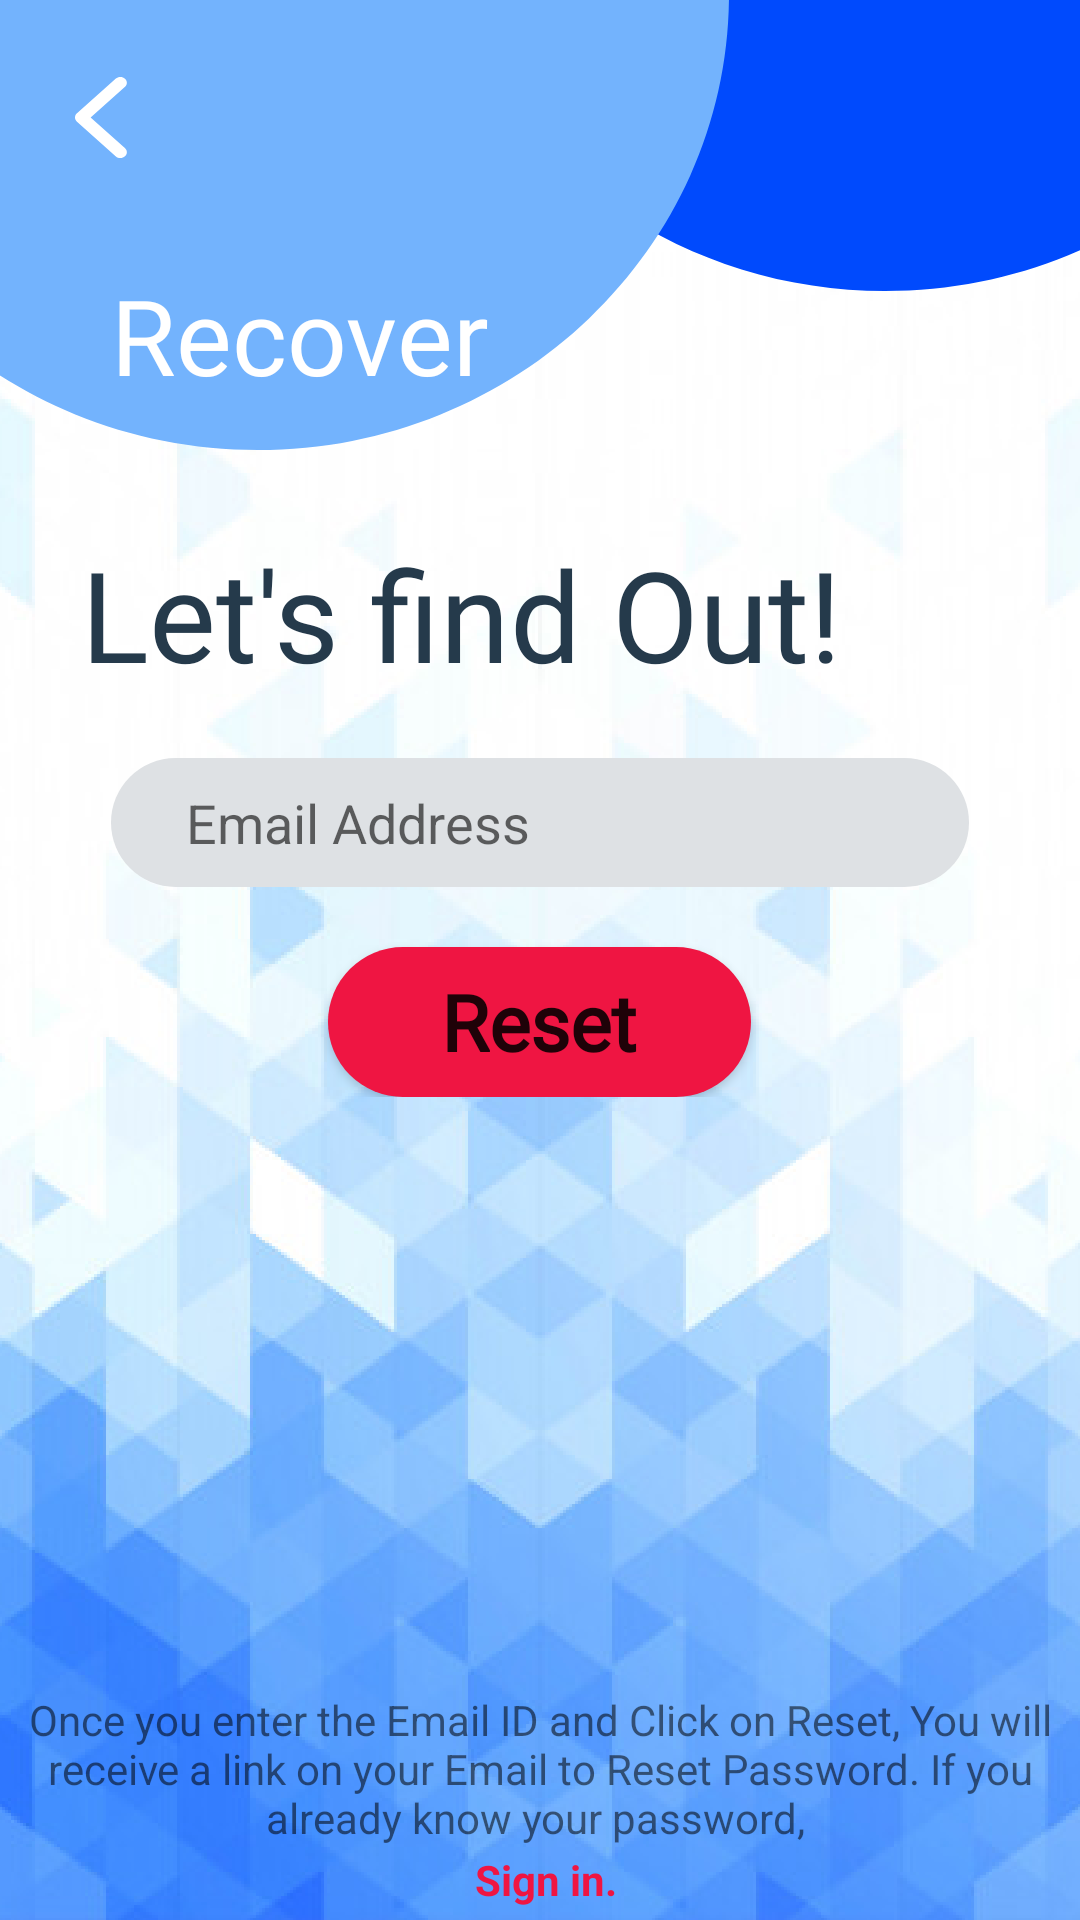

Icon bounding boxes for this 1080px×1920px phone screenshot, format (x1=x1, y1=y1, x2=x2, y2=y2):
back: (x1=75, y1=77, x2=127, y2=158)
